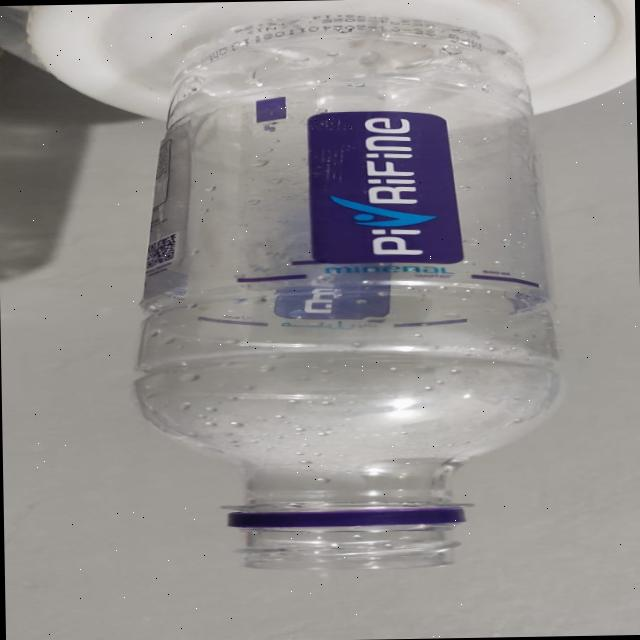bottle: (130, 6, 564, 575)
label: (140, 80, 560, 299)
